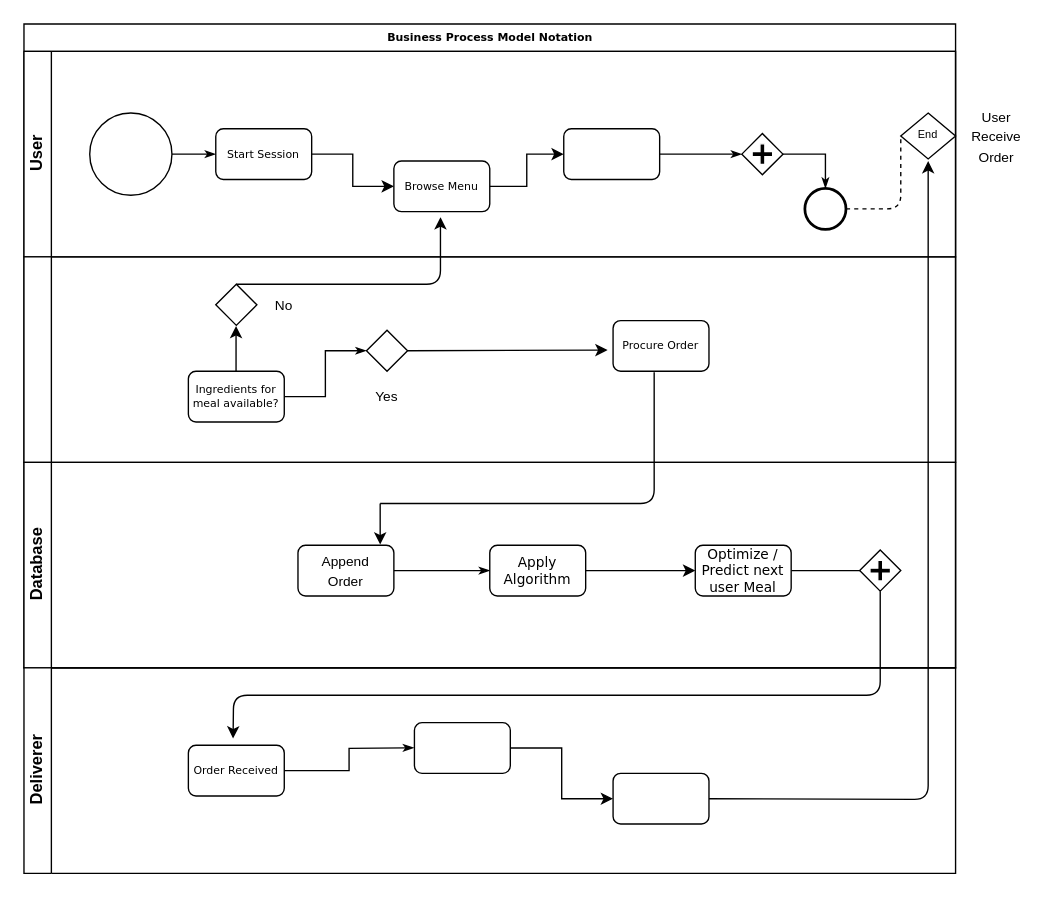
Some shapes in this 1048 by 897 pixel diagram are drawn without their labels. The shapes that lost their labels are listed below. From the top down, each one's box as (x1, y1, x2, y2) in pixels, then its label:
(88, 112, 172, 195): Launch Application
(562, 127, 660, 179): Order
(803, 186, 847, 230): Wait
(23, 256, 956, 462): Supplier
(413, 721, 510, 773): Receive Order
(612, 772, 709, 824): Deliver Order
